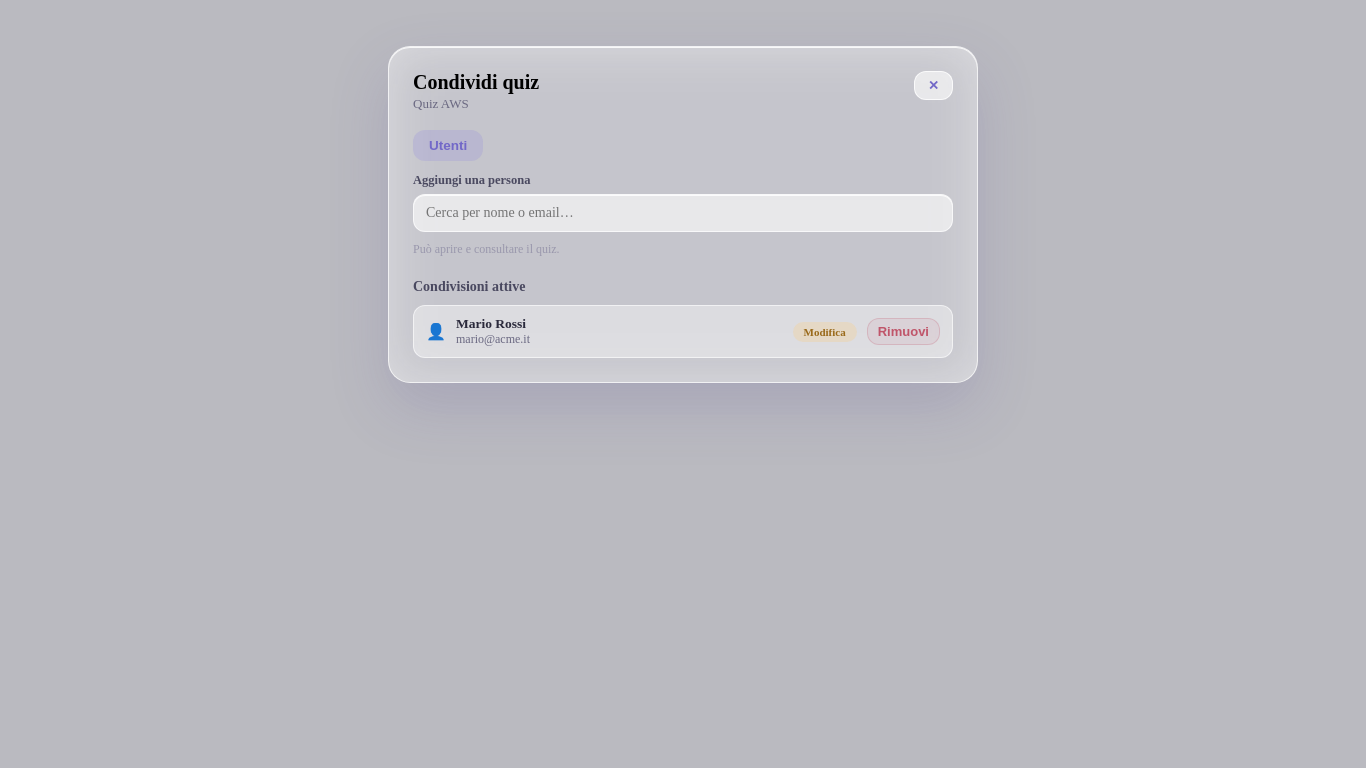
Test case: ShareDialog › removes a share when the remove button is clicked
The width and height of the screenshot is (1366, 768).
Step 1. Click the button with aria-label "Rimuovi Mario Rossi" → point(903, 332), box [867, 318, 940, 345]
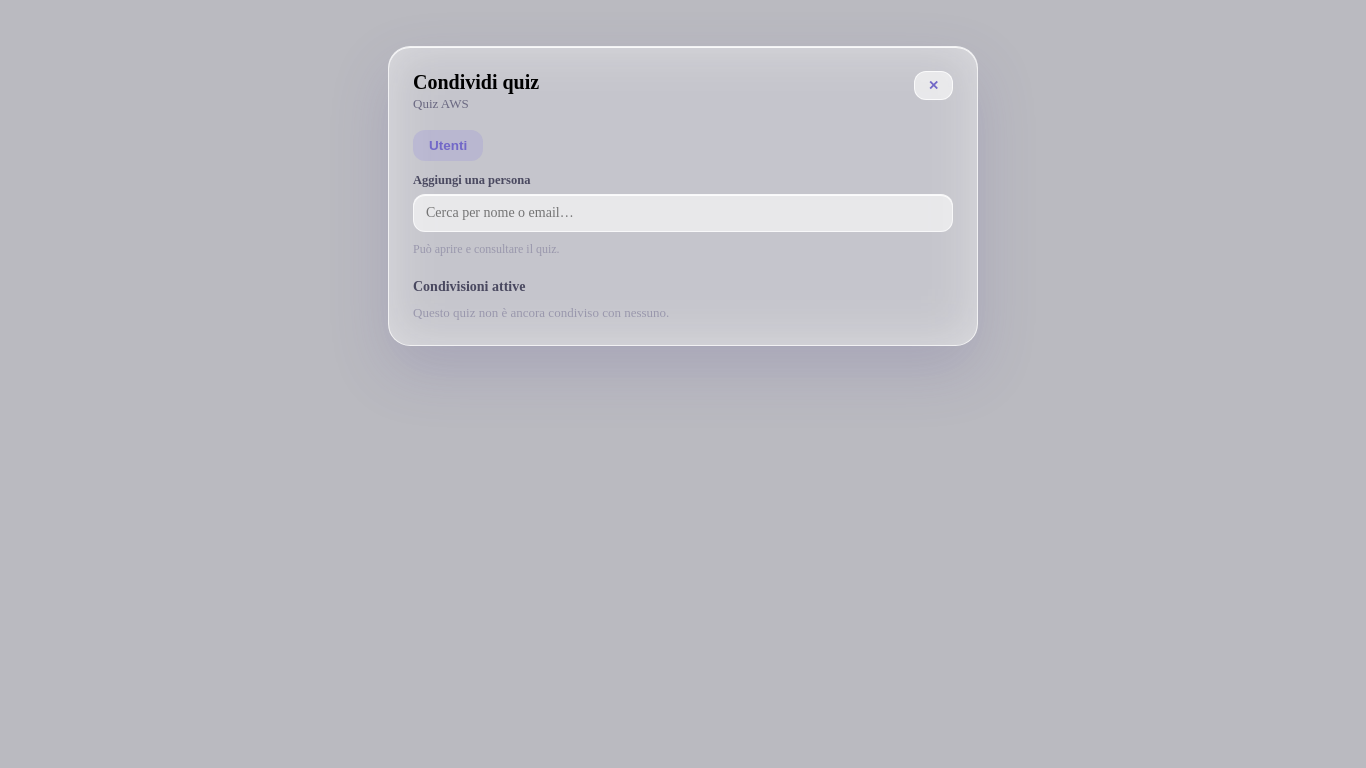
Expected: the text "Mario Rossi" is gone
